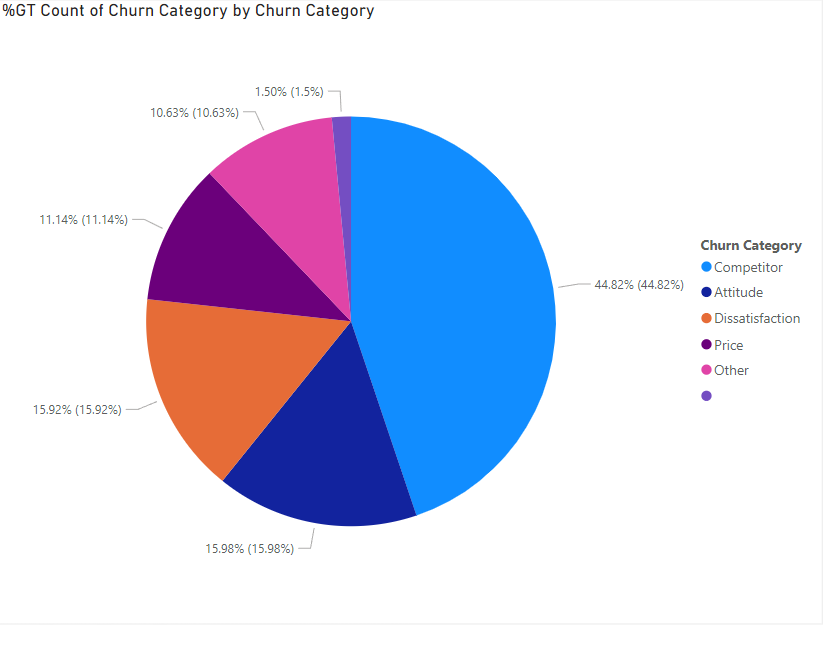

Layout of this report page (visuals, bound fields, positions):
{"tool":"powerbi","page":{"name":"Churn Category","canvas":[1280,720],"ordinal":2},"visuals":[{"type":"pieChart","fields":{"Y":["CountNonNull(Databel - Data.Churn Category)"],"Category":["Databel - Data.Churn Category"]},"box":[96.8,36.8,808.3,610.7],"z":0}]}

Visuals, with their boxes on the page's 1280x720 design canvas (x1, y1, x2, y2). These are canvas units, not pixel positions in the 837x645 screenshot, which may show the page scaled, cropped or inside an application window:
pieChart - CountNonNull(Databel - Data.Churn Category) x Databel - Data.Churn Category: (97,37,905,648)
